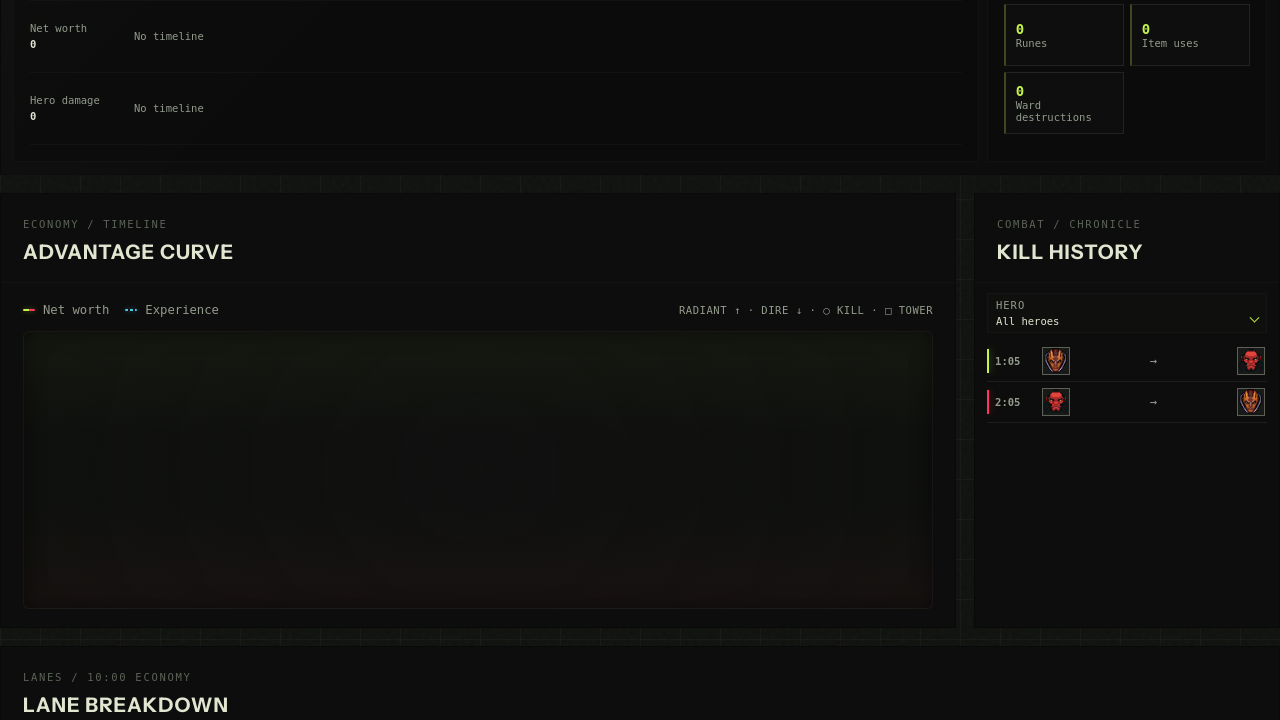
Test: MatchDetailView › renders a chronological kill history beside the advantage curve
The width and height of the screenshot is (1280, 720).
(page scrolled)
Step 1. Click the button named "Filter by Axe" in the row of "1:05" → (1251, 360), box x1=1237 y1=346 x2=1265 y2=374
(page scrolled)
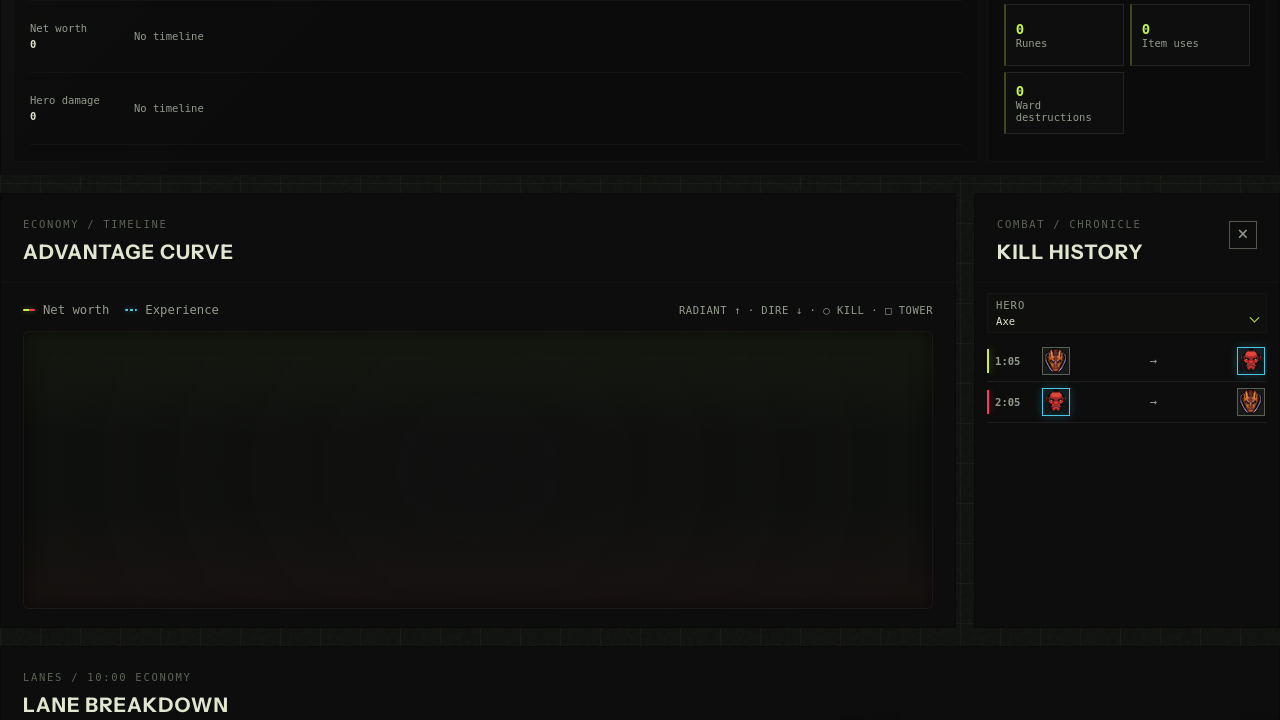
Expected: the button with aria-label "Hero: Axe" is shown, x1=988 y1=294 x2=1266 y2=332
Step 2. Click the text "Hero" → (1011, 304), box x1=996 y1=298 x2=1025 y2=310
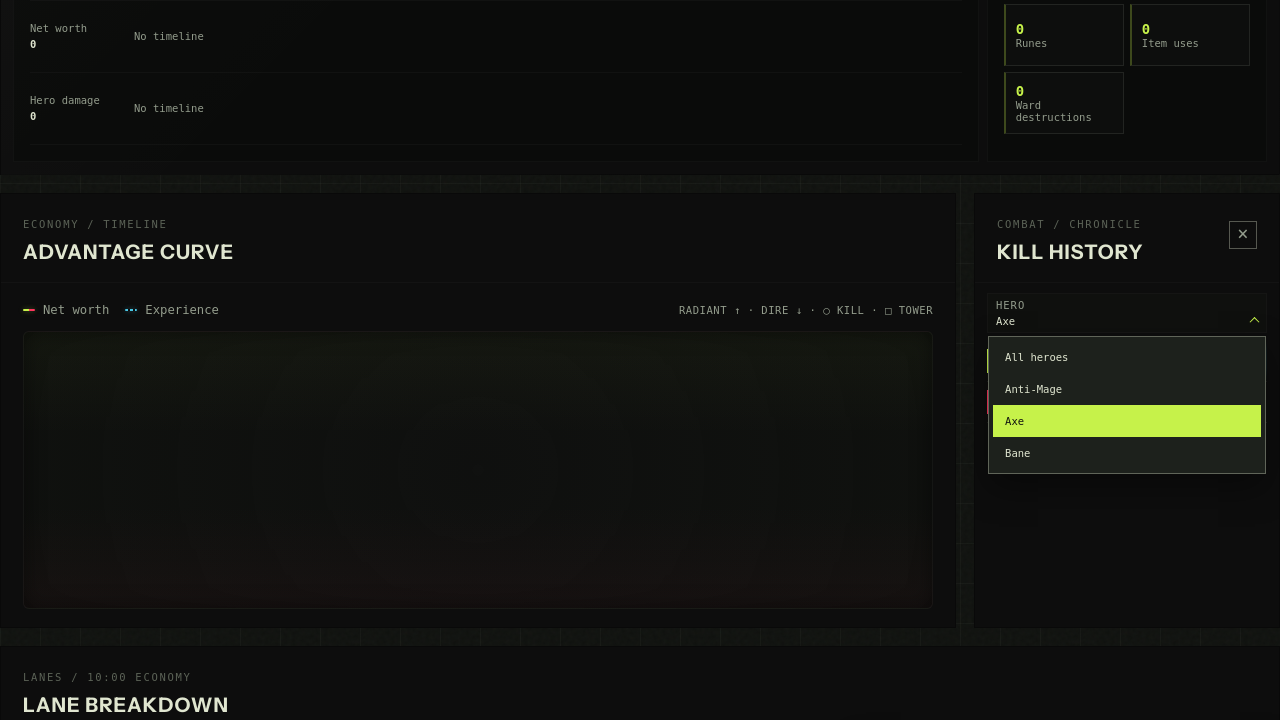
Step 3. Click the button named "Reset hero filter" → (1243, 234), box x1=1229 y1=220 x2=1257 y2=248
(page scrolled)
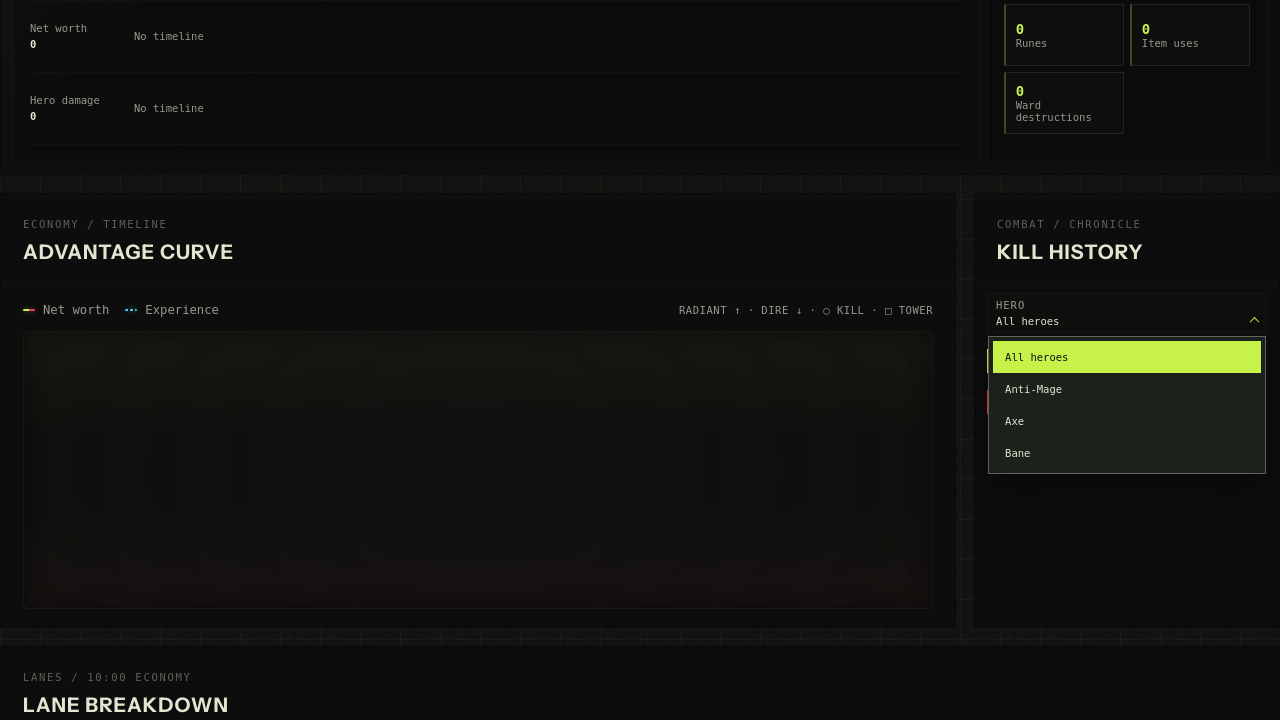
Expected: the button "Bane" is shown
Expected: the button with aria-label "Hero: All heroes" is shown, x1=988 y1=294 x2=1266 y2=332
Step 4. Click the button "Bane" → (1018, 452), box x1=993 y1=436 x2=1261 y2=468
(page scrolled)
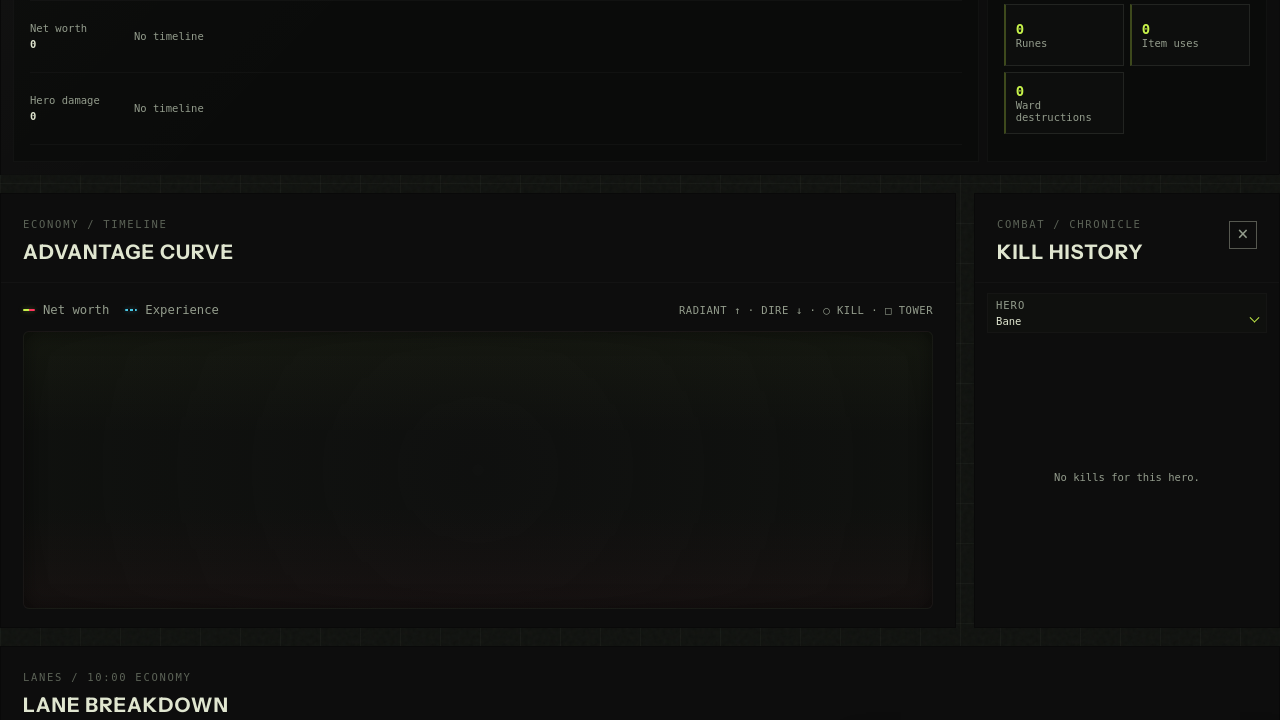
Expected: no the list item "1:05 →" are shown
Expected: the text "No kills for this hero." is shown, x1=1054 y1=471 x2=1200 y2=483
